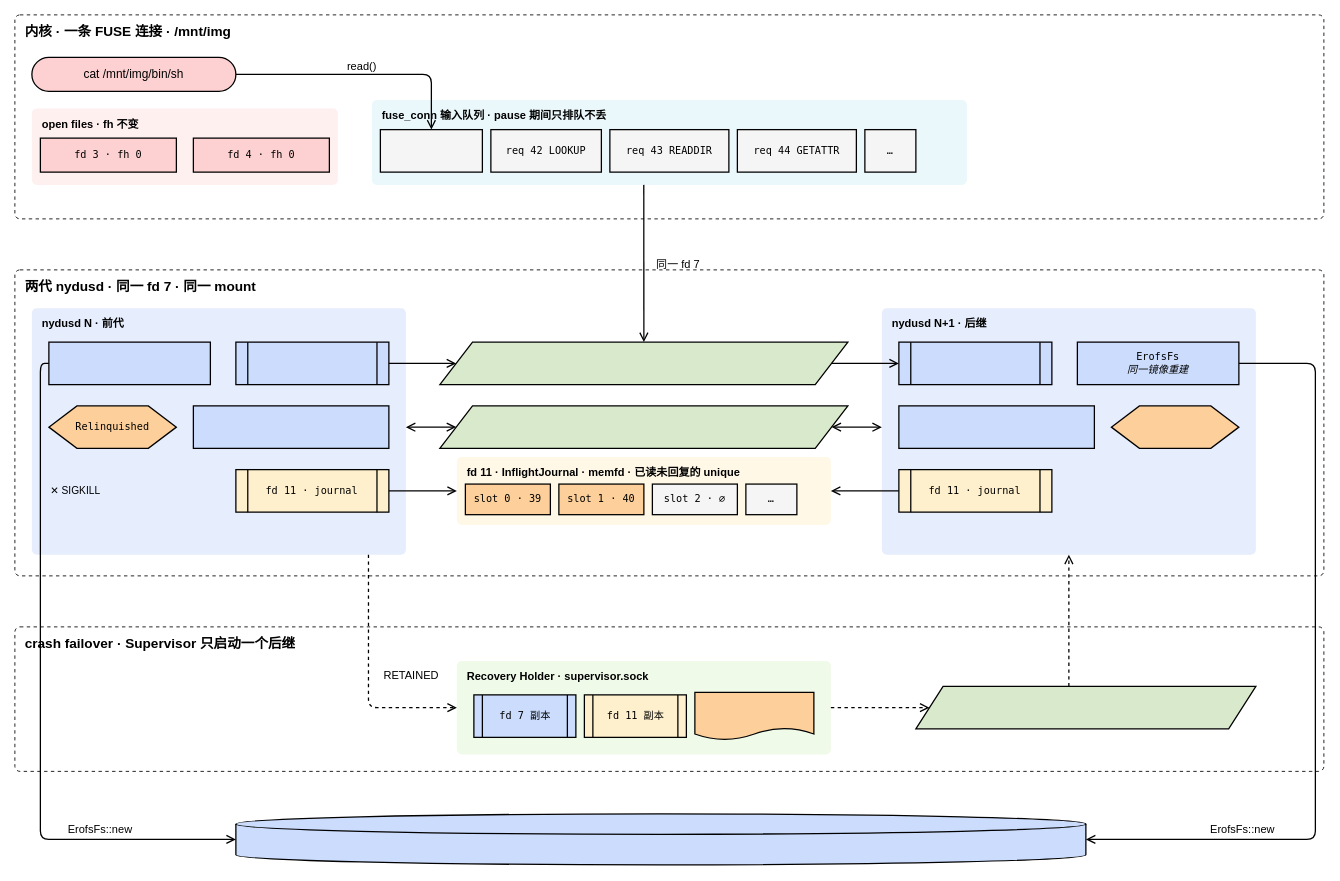
This 1340x881 diagram has some shape labels left out. Here are the shapes that lost their labels. From the top down, the centre of each, then its label:
At (x=431, y=150): "req 41 READ".
At (x=129, y=363): "ErofsFs ino = nid + 1".
At (x=312, y=363): "fd 7 · /dev/fuse dup · 交出".
At (x=643, y=363): "Session Transfer SCM_RIGHTS [fd 7, fd 11] + metadata · session_id · init flags".
At (x=975, y=363): "fd 7 · /dev/fuse from_initialized_fd".
At (x=290, y=427): "workers · fd 8 fd 9 pause → exit".
At (x=643, y=427): "control.sock · HANDOFF_BEGIN → READY → COMMITTED".
At (x=996, y=427): "workers · fd 13 fd 14 park → resume".
At (x=1174, y=427): "Serving".
At (x=754, y=715): "metadata 副本".
At (x=1085, y=707): "--recover FUSE_NOTIFY_RESEND · 或 reply EIO(39, 40)".
At (x=660, y=839): "EROFS 镜像 只读 · nid ↔ ino 由镜像决定".
